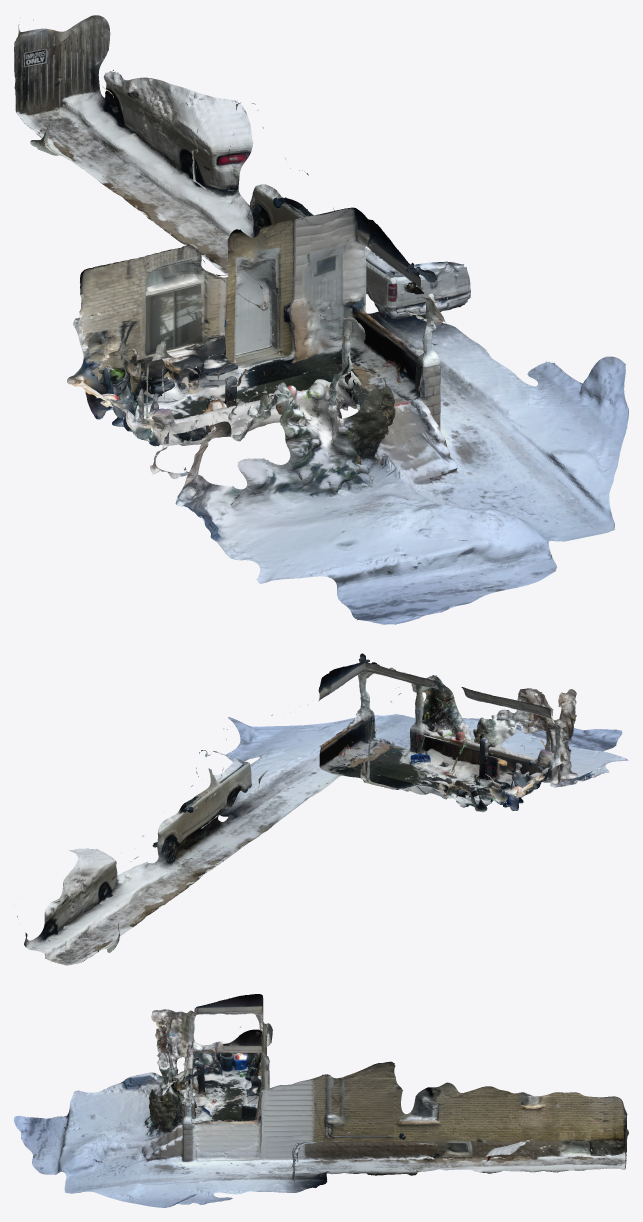
The picture shows the model from 3 angles, top to bottom: view 1: azimuth 30°, elevation 25°; view 2: azimuth 150°, elevation 25°; view 3: azimuth 270°, elevation 25°; orthographic projection. The views are drawn at different scales.
Bounding box in the file's own units: 11.15 × 4.74 × 22.66.
2 materials, 2 textured.
